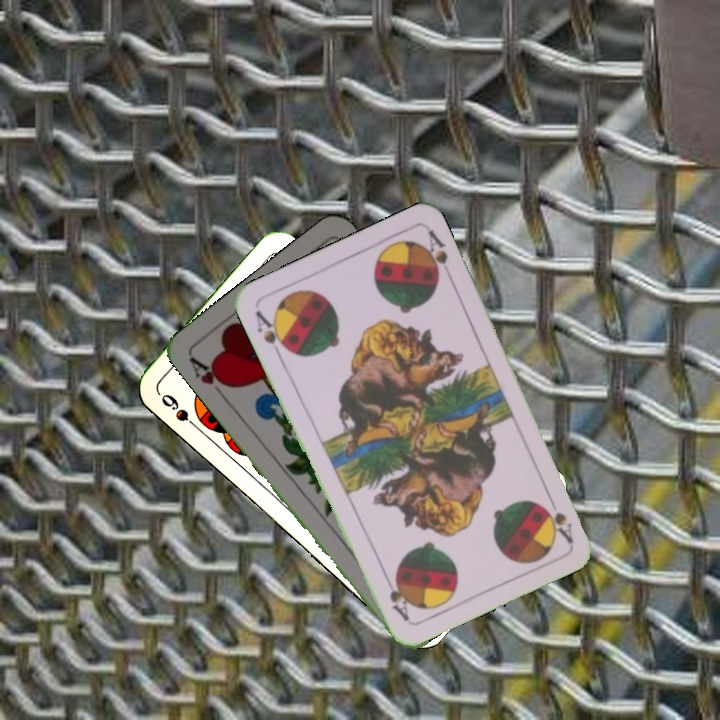HA: (185, 353, 235, 402)
S9: (157, 389, 204, 434)
SA: (251, 306, 292, 361), (540, 489, 576, 546)
